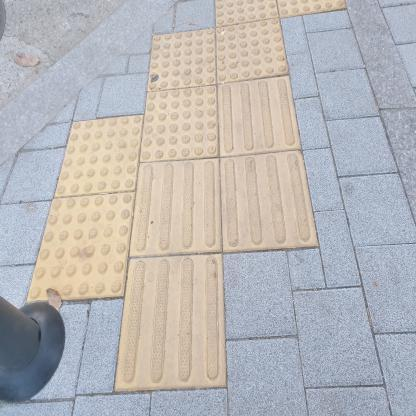podotacti: (19, 0, 353, 402)
